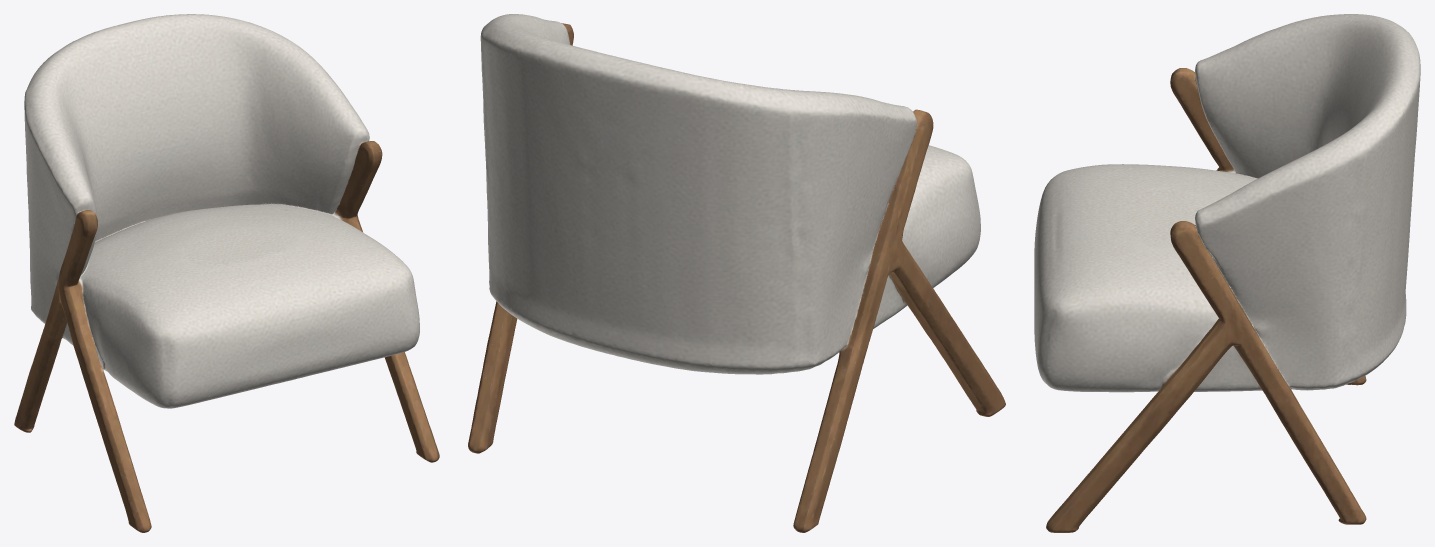
File: lounge-chair-cream-boucle-wood-frame-main-sofa-palette.glb
3 views of the same model, side by side, from view 1: azimuth 30°, elevation 25°; view 2: azimuth 150°, elevation 25°; view 3: azimuth 270°, elevation 25° (orthographic). The views are drawn at different scales.
Parts seen in each view (by area): view 1: world; view 2: world; view 3: world.
Boxes of the visible parts, box(x1,y1,x2,y2) form: world: box(14, 14, 439, 532); world: box(468, 14, 1005, 532); world: box(1034, 14, 1420, 532).
Size of the model in its own units: 0.8917 by 1 by 0.8873.
Materials: 1 (1 with a texture image).
